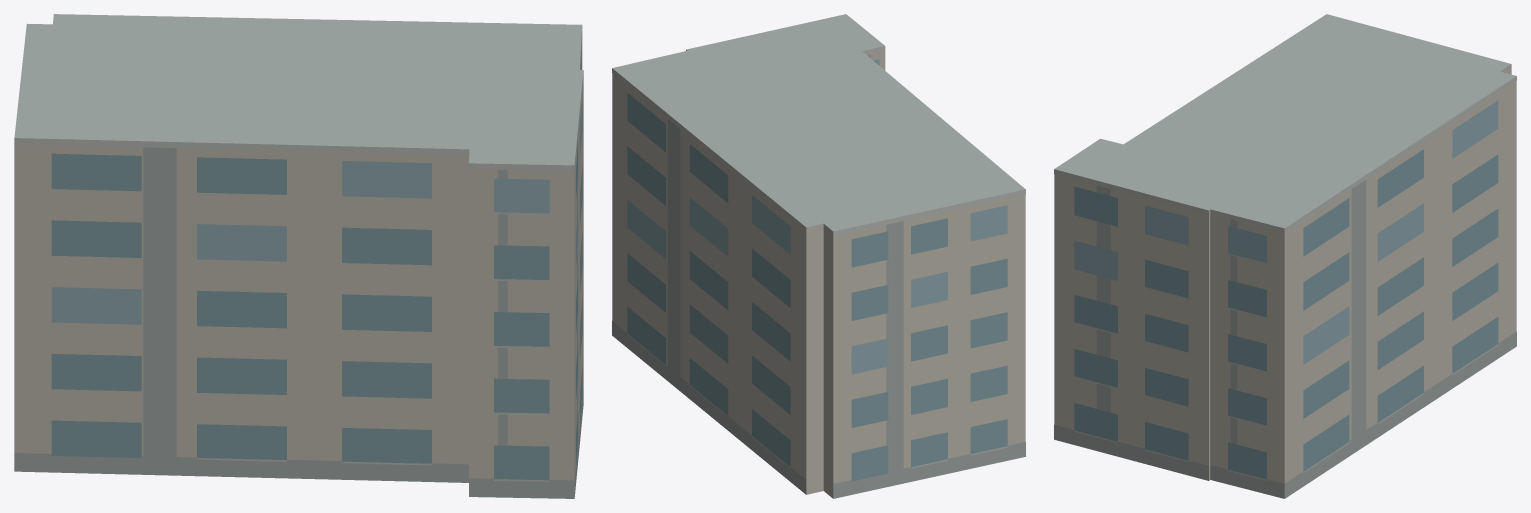
Rendered from survey-upis-32883289.glb.
The picture shows the model from 3 angles, left to right: view 1: azimuth 30°, elevation 25°; view 2: azimuth 150°, elevation 25°; view 3: azimuth 270°, elevation 25°; orthographic projection. The views are drawn at different scales.
Parts seen in each view (by area): view 1: survey-upis-32883289.tmp; view 2: survey-upis-32883289.tmp; view 3: survey-upis-32883289.tmp.
Part boxes in pixels (x1=…): survey-upis-32883289.tmp: x1=14, y1=14, x2=583, y2=498; survey-upis-32883289.tmp: x1=612, y1=14, x2=1025, y2=498; survey-upis-32883289.tmp: x1=1054, y1=14, x2=1516, y2=498.
Bounding box in the file's own units: 22.53 × 13.25 × 20.54.
